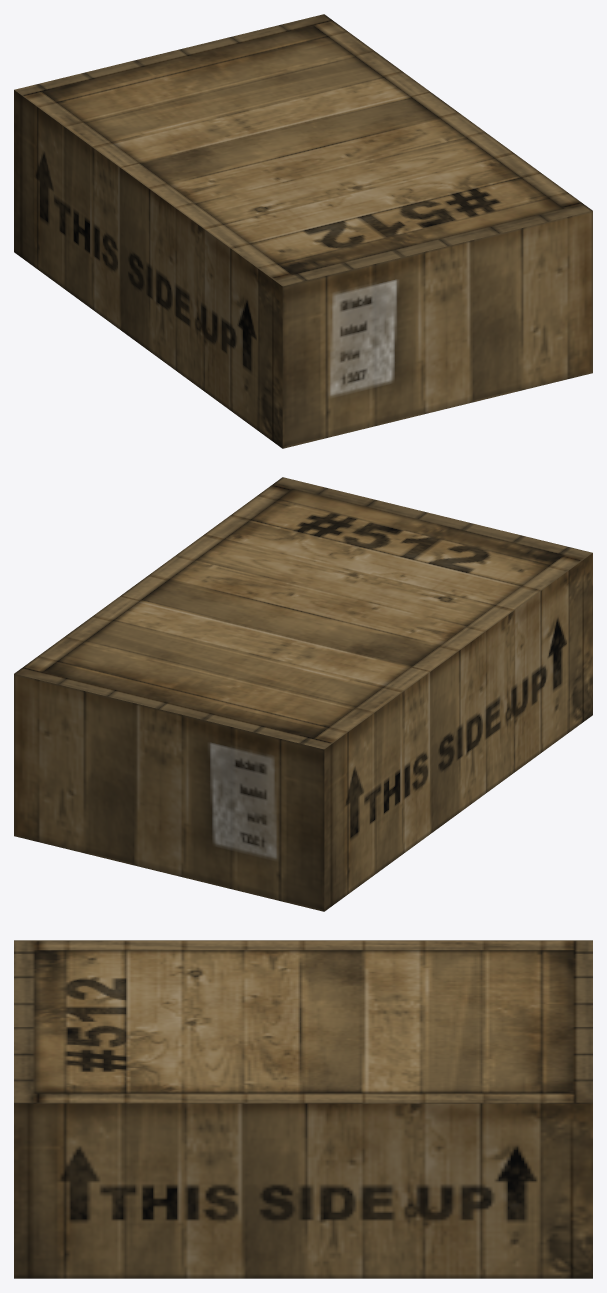
Rendered from cratec1.gltf.
3 views of the same model, one above another, from view 1: azimuth 30°, elevation 25°; view 2: azimuth 150°, elevation 25°; view 3: azimuth 270°, elevation 25° (orthographic). The views are drawn at different scales.
Parts seen in each view (by area): view 1: cratec; view 2: cratec; view 3: cratec.
Boxes of the visible parts, <box> form: cratec: <box>14,14,592,448</box>; cratec: <box>14,477,592,911</box>; cratec: <box>14,940,592,1278</box>.
Bounding box in the file's own units: 1 × 0.5 × 1.5.
Materials: 1 (1 with a texture image).
